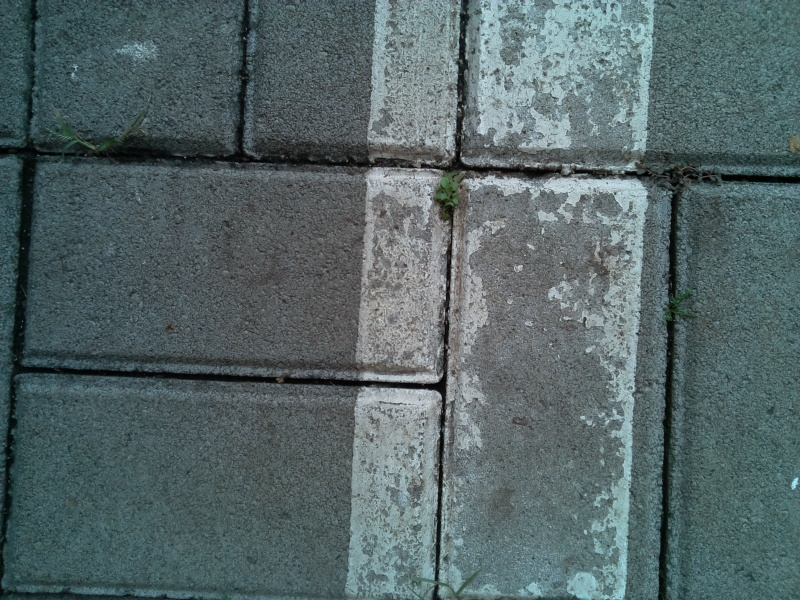Weed: (47, 106, 151, 170), (631, 156, 725, 197), (658, 278, 695, 332), (429, 170, 466, 220), (14, 34, 44, 65)
